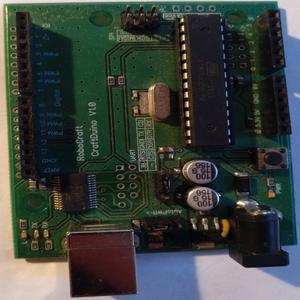duino: (11, 0, 291, 270)
